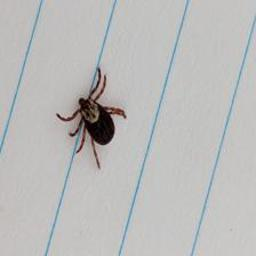Dermacentor variabilis: (56, 70, 128, 172)
